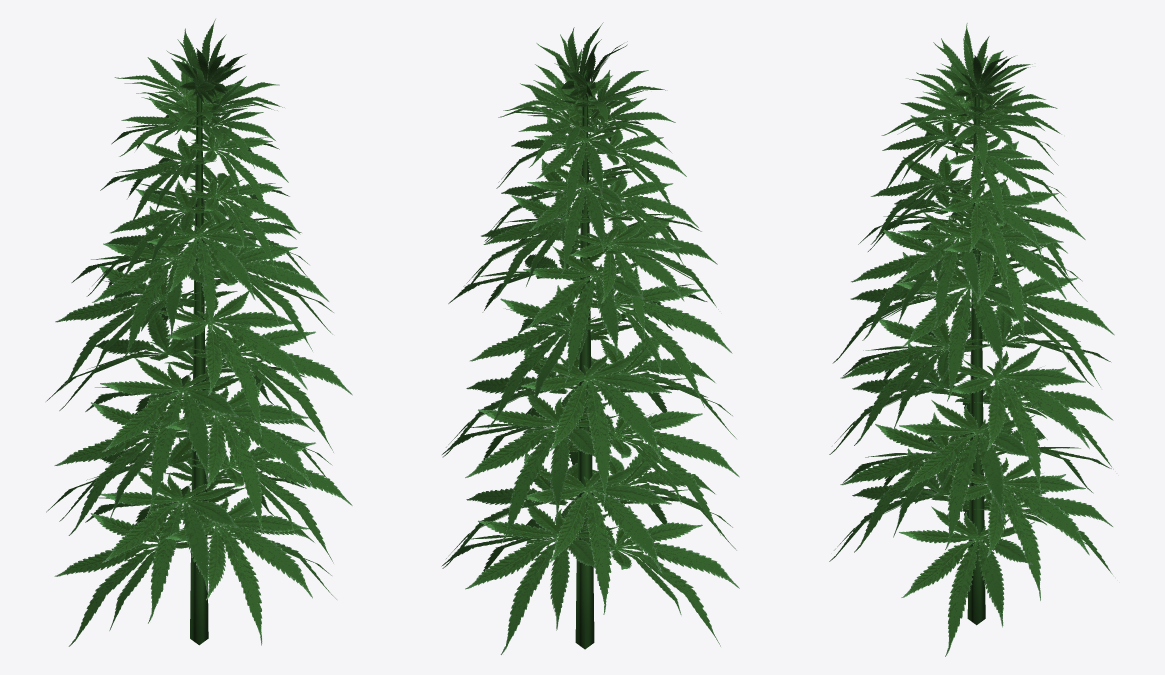
The model's file is weed1.FBX.
3 renders of one model, left to right at view 1: azimuth 30°, elevation 25°; view 2: azimuth 150°, elevation 25°; view 3: azimuth 270°, elevation 25°, orthographic. The views are drawn at different scales.
Visible parts, largest first — view 1: weed1; view 2: weed1; view 3: weed1.
Part boxes in pixels (x1,y1,x2,y2): weed1: (46,19,352,646); weed1: (441,22,739,654); weed1: (829,23,1114,656).
Size of the model in its own units: 2.33 by 4.43 by 2.36.
